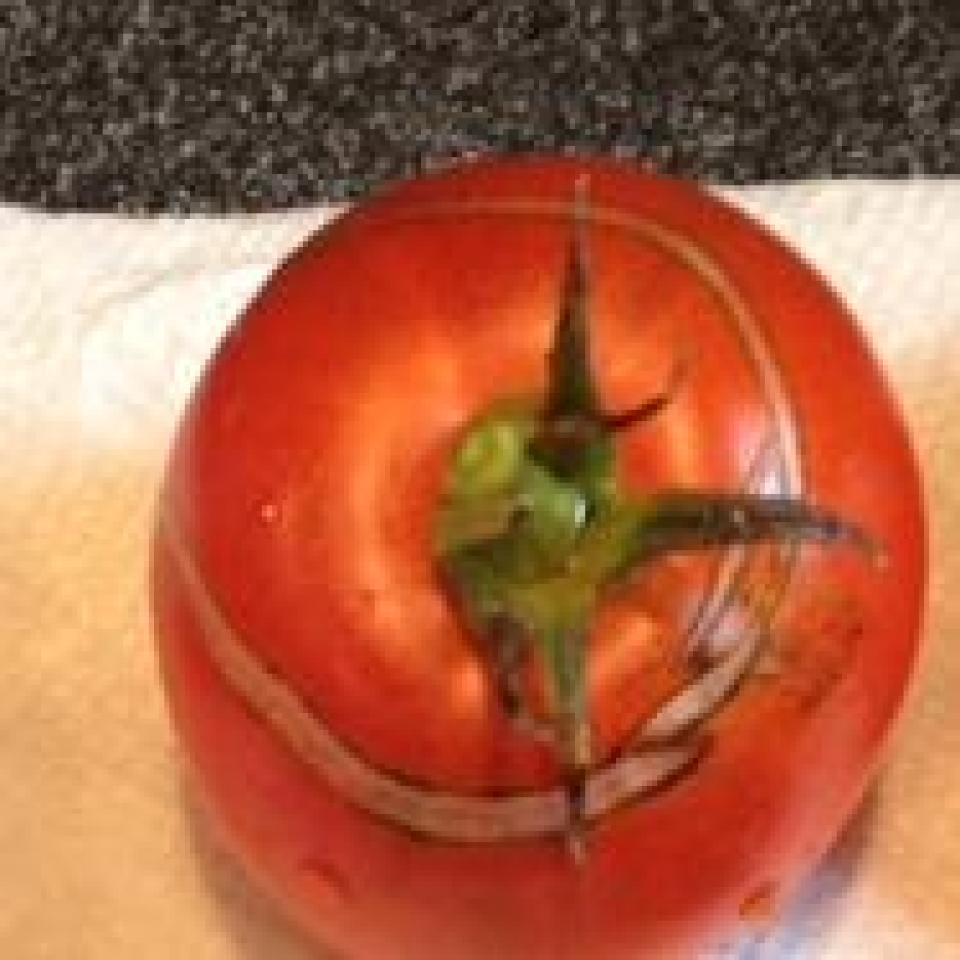Cracking: (153, 186, 810, 834)
